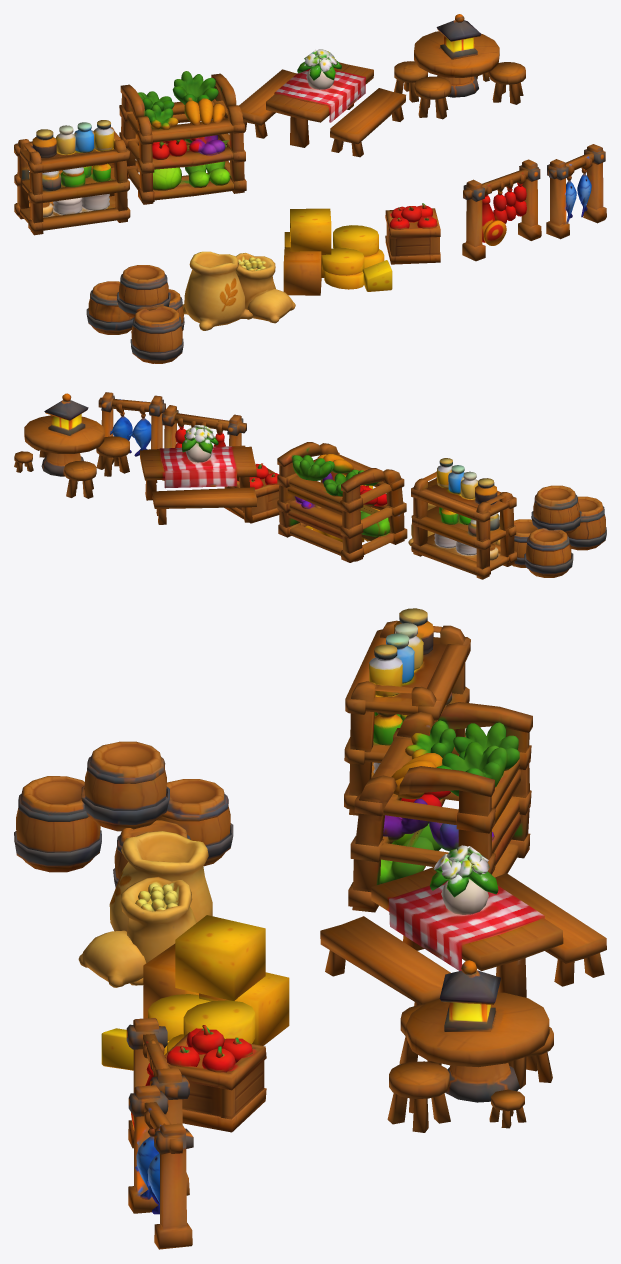
The model's file is sheet_source.glb.
The picture shows the model from 3 angles, top to bottom: view 1: azimuth 30°, elevation 25°; view 2: azimuth 150°, elevation 25°; view 3: azimuth 270°, elevation 25°; orthographic projection. The views are drawn at different scales.
Visible parts, largest first — view 1: tripo_node_1eed972f-90d9-472a-9148-ecb67f7561eb; view 2: tripo_node_1eed972f-90d9-472a-9148-ecb67f7561eb; view 3: tripo_node_1eed972f-90d9-472a-9148-ecb67f7561eb.
Part boxes in pixels (x1,y1,x2,y2): tripo_node_1eed972f-90d9-472a-9148-ecb67f7561eb: (14,14,606,363); tripo_node_1eed972f-90d9-472a-9148-ecb67f7561eb: (14,392,606,579); tripo_node_1eed972f-90d9-472a-9148-ecb67f7561eb: (14,608,606,1249).
Bounding box in the file's own units: 0.9995 × 0.2974 × 0.6108.
Materials: 1 (1 with a texture image).
